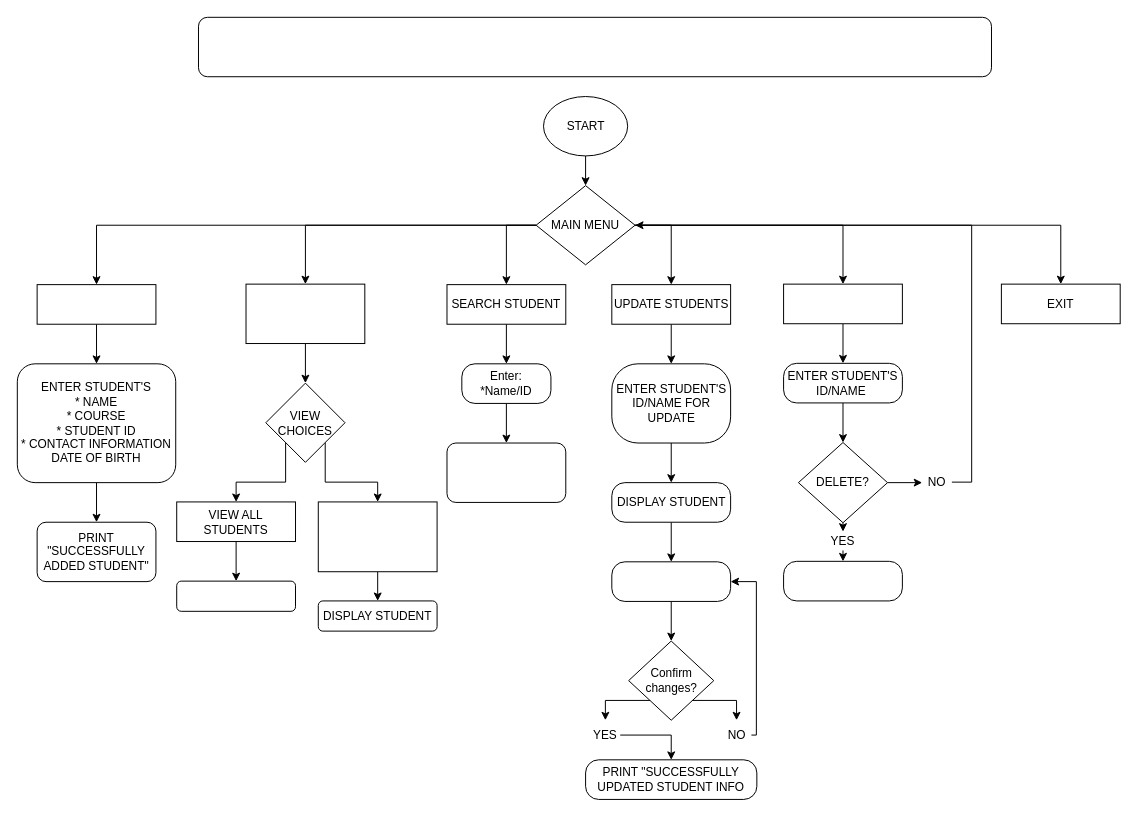
Some shapes in this 1138 by 817 pixel diagram are drawn without their labels. Here are the shapes that lost their labels. From the top down, the centre of each, then its label:
At [594,46]: "FLOW CHART FOR THE STUDENT MANAGEMENT SYSTEM".
At [96,304]: "ADD/REGISTER STUDENTS".
At [305,313]: "DISPLAY STUDENTS".
At [842,303]: "DELETE STUDENTS".
At [506,472]: "DISPLAY STUDENT INFO (name, course, id)".
At [377,536]: "VIEW SPECIFIC STUDENT (via name/ ID/ course)".
At [236,595]: "DISPLAY ALL STUDENTS".
At [671,581]: "INSERT UPDATED DETAILS".
At [842,580]: "STUDENT DELETED".
